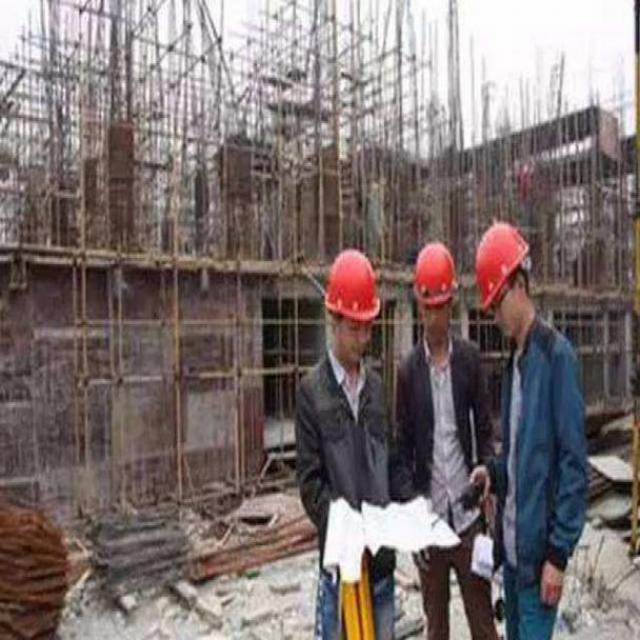helmet: (321, 226, 378, 388), (478, 192, 536, 350), (404, 234, 462, 363)
